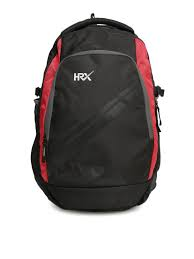backpack: (30, 12, 164, 211)
